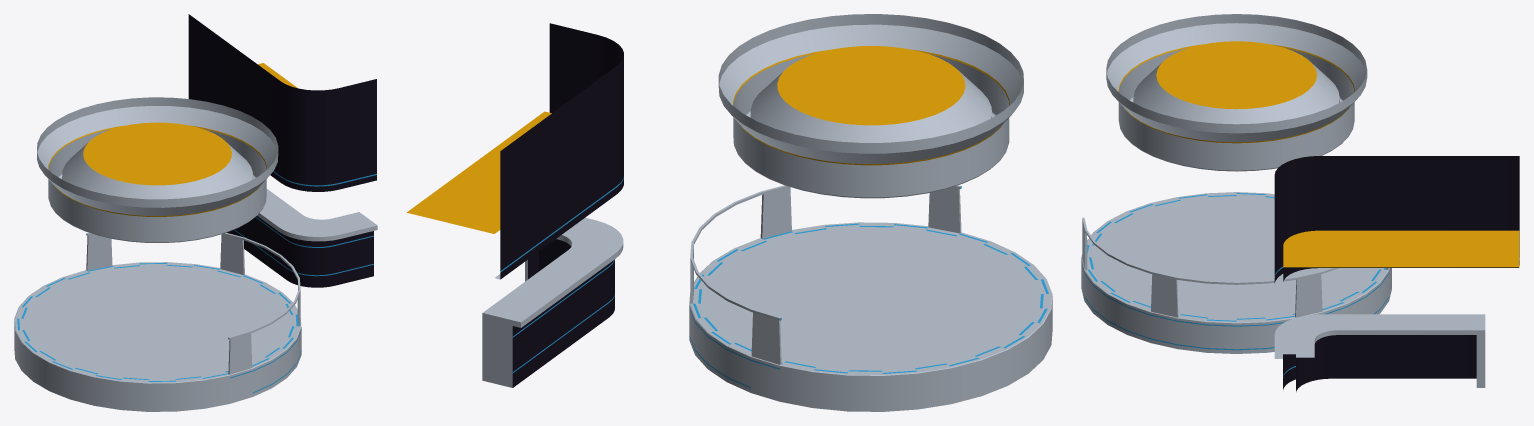
Rendered from THE_EDGE_INSIDE.glb.
The picture shows the model from 3 angles, left to right: view 1: azimuth 30°, elevation 25°; view 2: azimuth 150°, elevation 25°; view 3: azimuth 270°, elevation 25°; orthographic projection. The views are drawn at different scales.
Visible parts, largest first — view 1: BAR_INSIDE; view 2: BAR_INSIDE; view 3: BAR_INSIDE.
Part boxes in pixels (left/top/right/bottom): BAR_INSIDE: left=14, top=14, right=377, bottom=411; BAR_INSIDE: left=407, top=14, right=1052, bottom=411; BAR_INSIDE: left=1081, top=14, right=1519, bottom=391.
Bounding box in the file's own units: 8.04 × 4.31 × 7.81.
